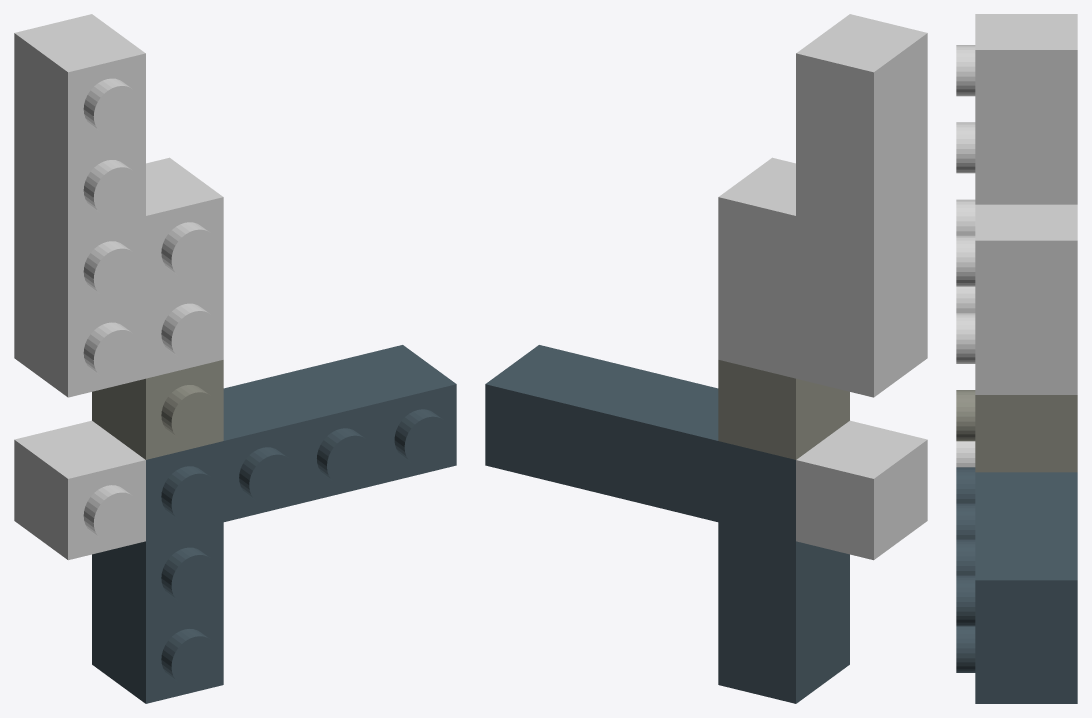
Rendered from current.glb.
3 views of the same model, side by side, from view 1: azimuth 30°, elevation 25°; view 2: azimuth 150°, elevation 25°; view 3: azimuth 270°, elevation 25° (orthographic). The views are drawn at different scales.
Visible parts, largest first — view 1: world; view 2: world; view 3: world.
Boxes of the visible parts, x1,y1,x2,y2 form: world: (14,14,456,703); world: (485,14,927,703); world: (956,14,1077,703).
Size of the model in its own units: 40 by 64 by 11.4.
